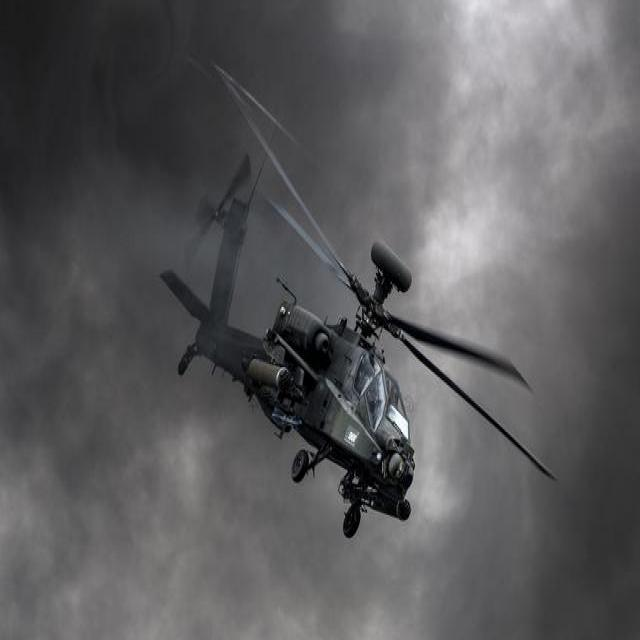MIL_HELO: (162, 78, 561, 556)
